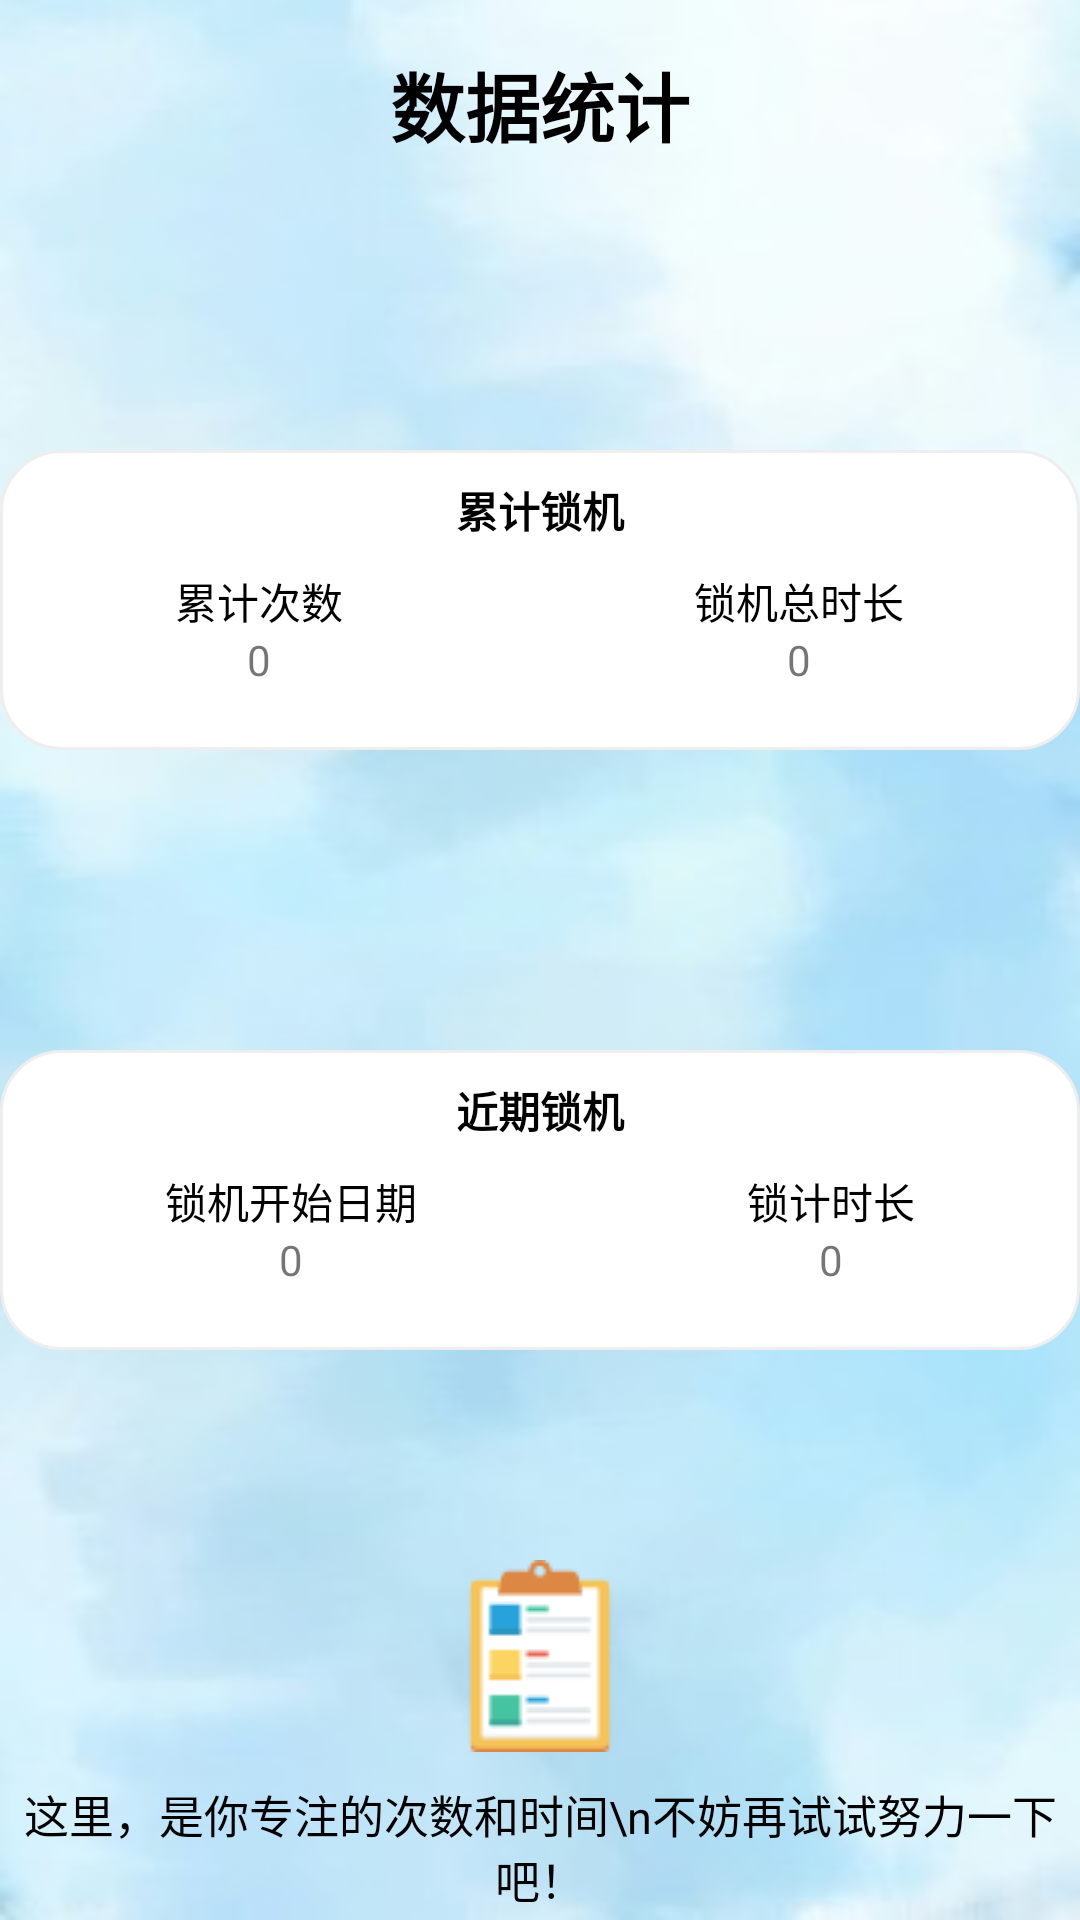

Screen size 1080×1920. Icon name, then its center in pixels as [x,y]:
checklist: [539,1656]
